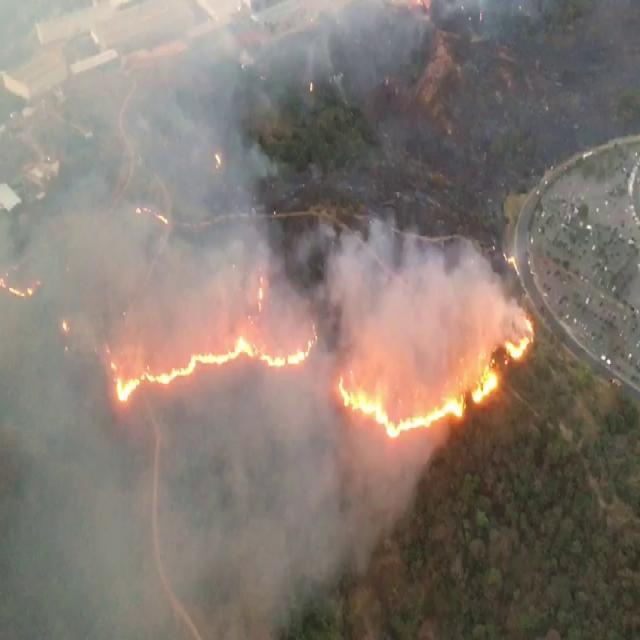Smoke: (6, 405, 298, 614), (40, 22, 215, 250)
